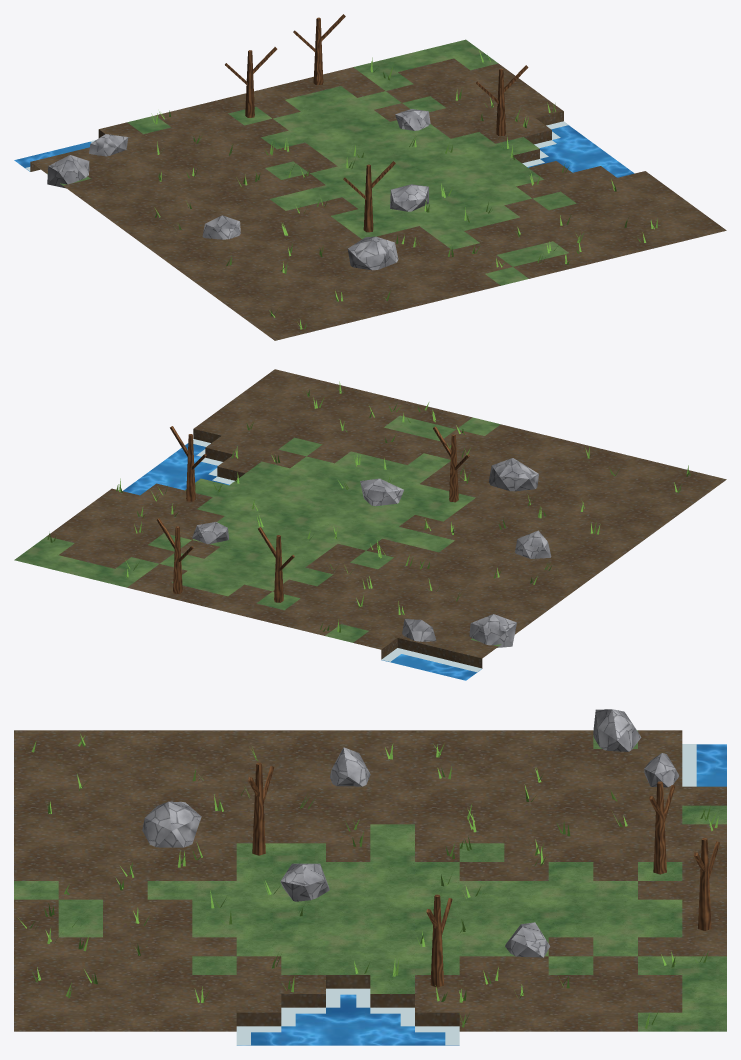
The model's file is chunk_1_17.glb.
3 renders of one model, top to bottom at view 1: azimuth 30°, elevation 25°; view 2: azimuth 150°, elevation 25°; view 3: azimuth 270°, elevation 25°, orthographic. The views are drawn at different scales.
Parts seen in each view (by area): view 1: chunk_1_17; view 2: chunk_1_17; view 3: chunk_1_17.
Part boxes in pixels (x1,y1,x2,y2): chunk_1_17: (14,14,726,340); chunk_1_17: (14,369,726,680); chunk_1_17: (14,709,726,1045).
Size of the model in its own units: 16.23 by 2.7 by 16.
7 materials, 5 textured.
